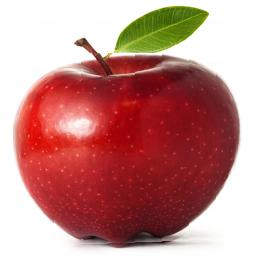Apple Fresh: (14, 53, 256, 247)
